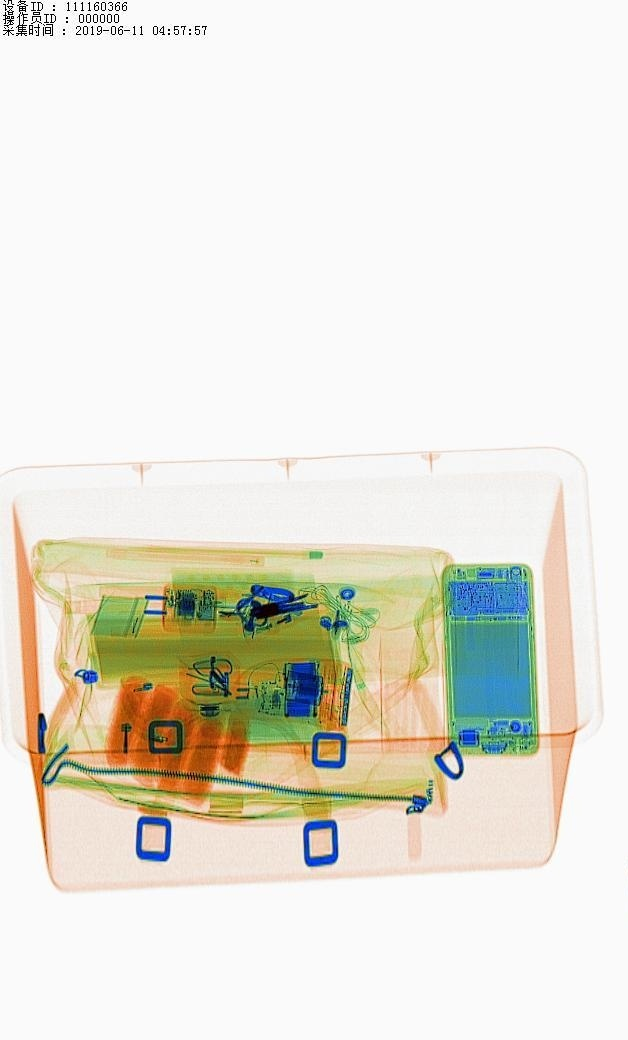NonmetallicFire: (231, 591, 352, 648)
